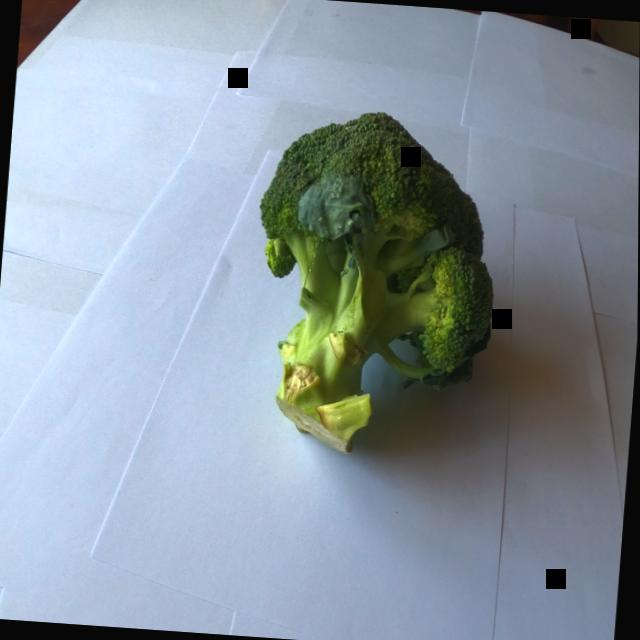Broccoli: (219, 89, 530, 482)
